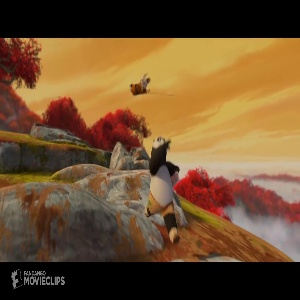po: (146, 134, 183, 243)
shifu: (130, 71, 152, 98)
